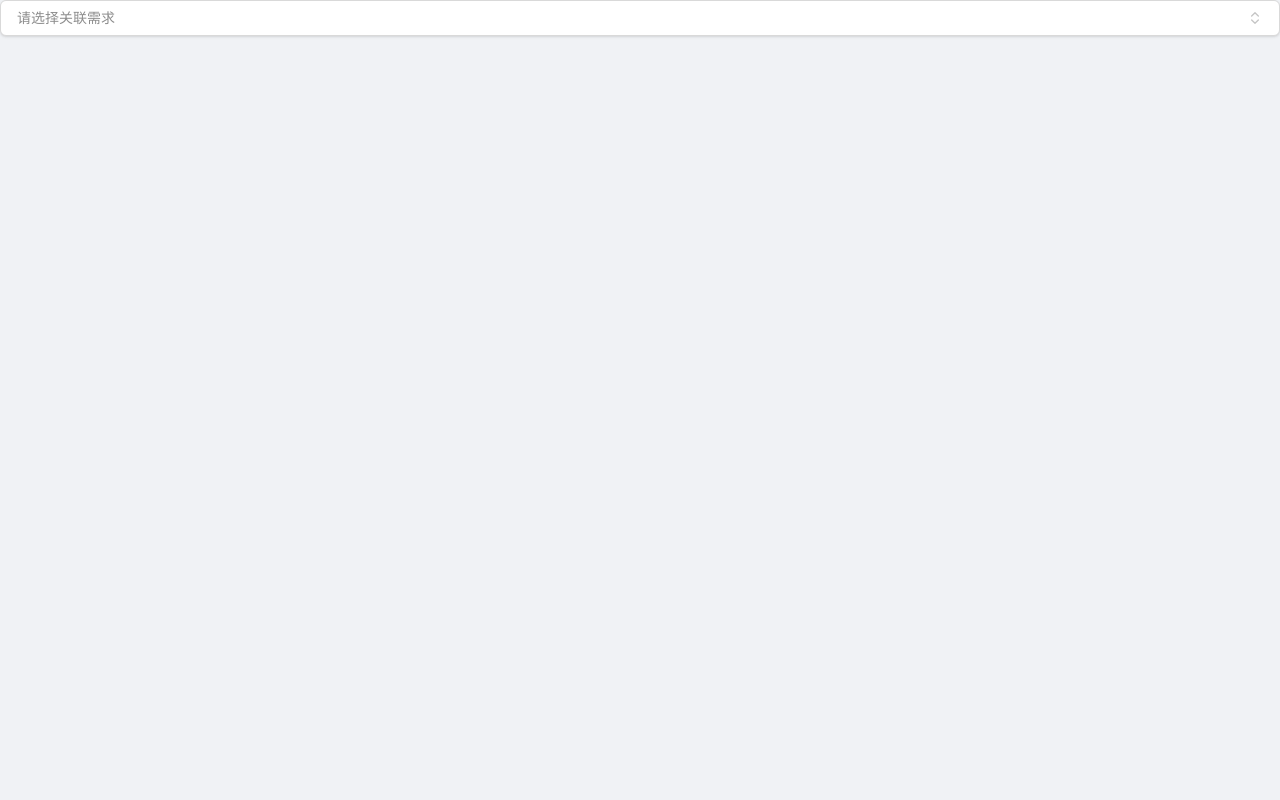
Test: RequirementSelect › 展示历史 chips，点击填入并搜索
This screenshot has width=1280, height=800.
Click the dropdown: (66, 18) [0,0,1279,36]
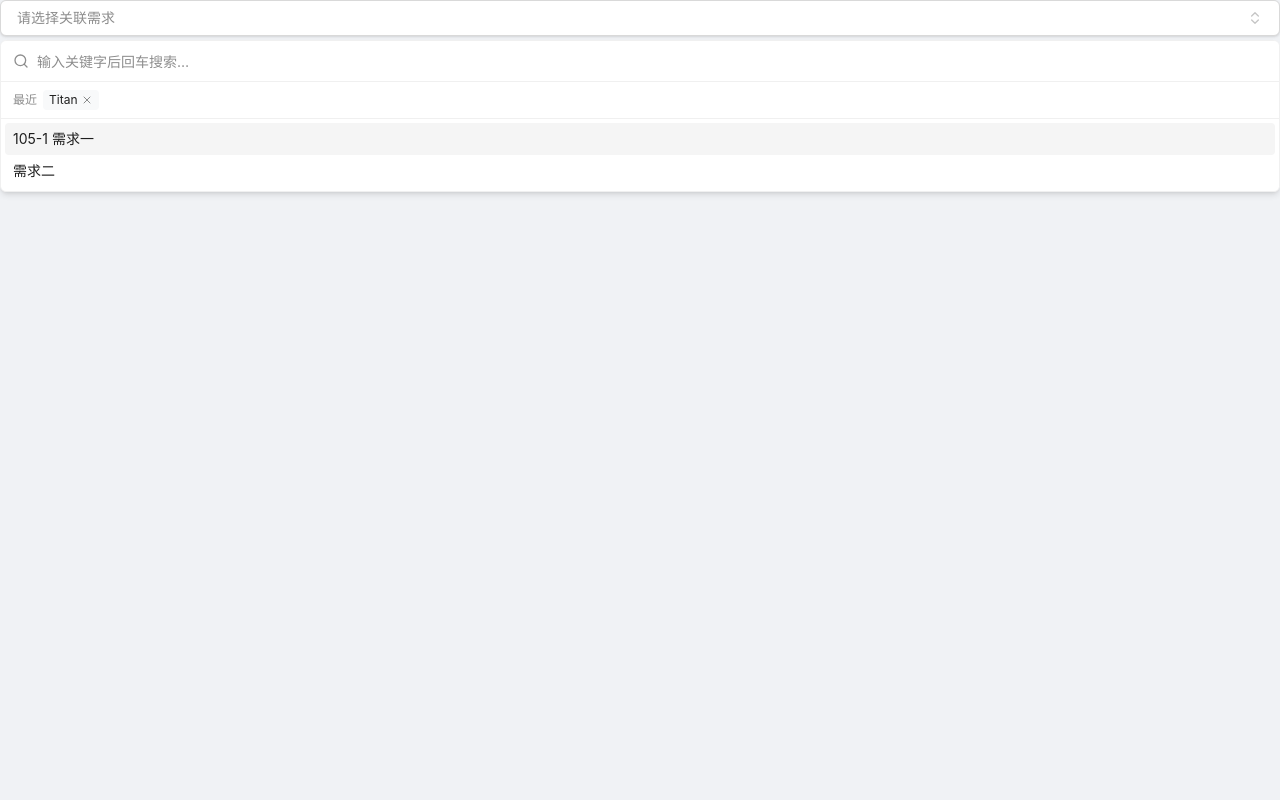
expect the text "最近" is shown: met, box [13,92,37,108]
expect the button titled "Titan" is shown: met, box [49,92,78,108]
